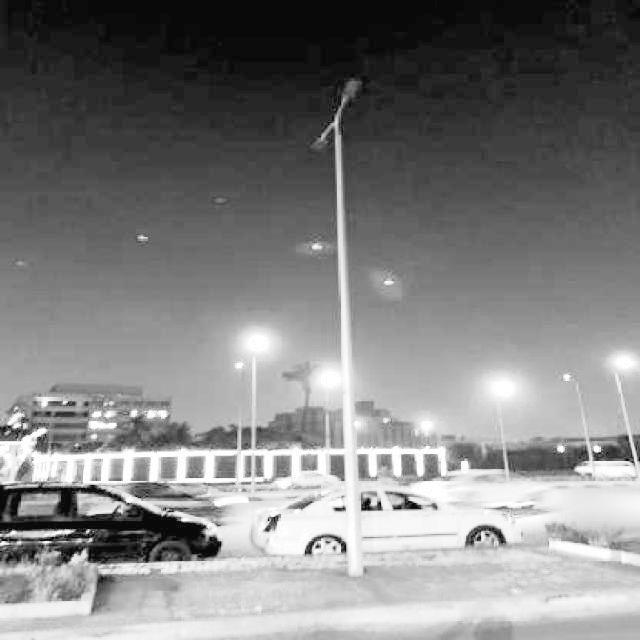Light: (311, 77, 364, 576), (565, 374, 599, 478), (614, 359, 640, 482), (249, 336, 268, 495), (496, 385, 514, 482), (236, 363, 247, 493), (323, 374, 336, 460)
